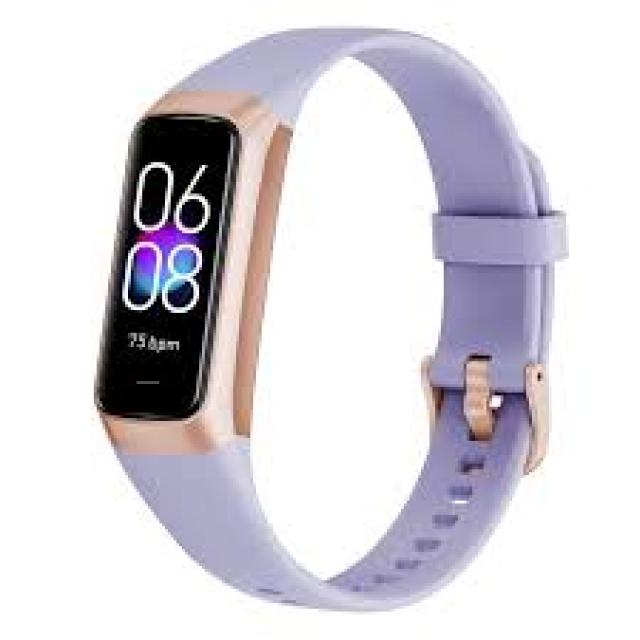objects: (97, 28, 566, 613)
